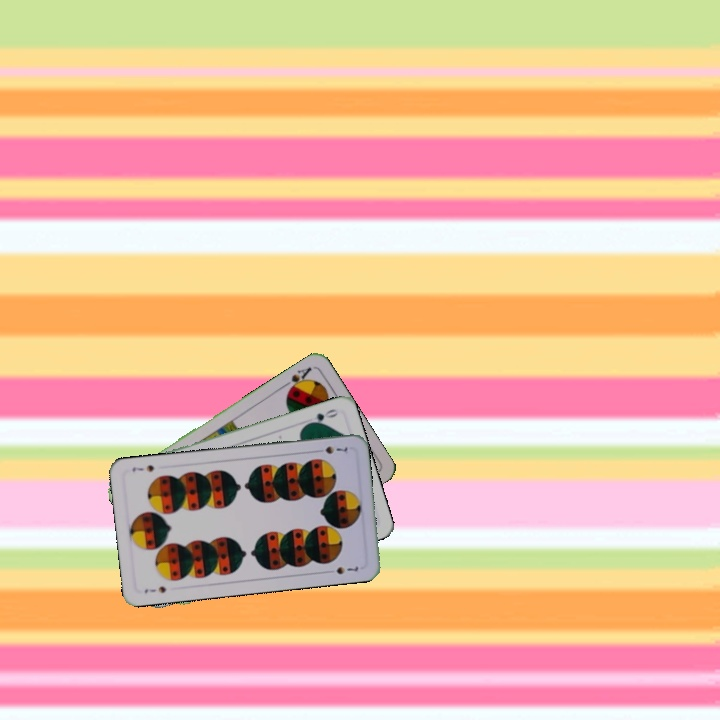GO: (303, 405, 340, 428)
S7: (312, 442, 350, 457), (140, 582, 169, 596)
SA: (278, 363, 314, 395)
